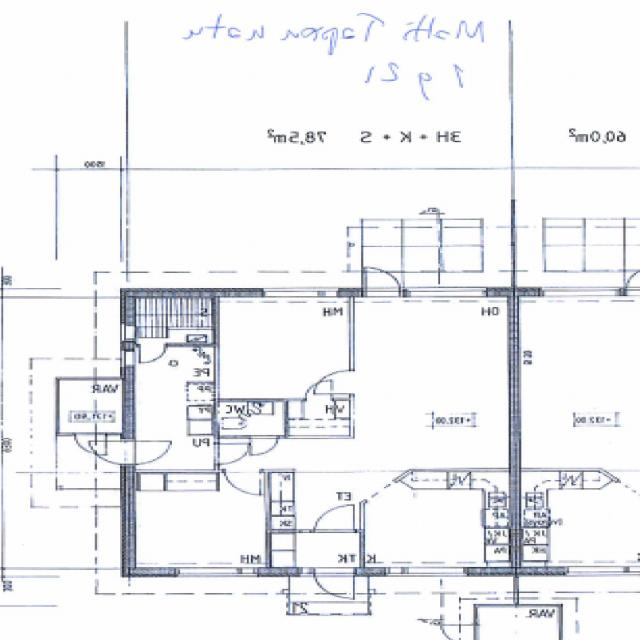door: (314, 567, 354, 603), (363, 262, 401, 296), (314, 504, 354, 534), (86, 441, 135, 464), (122, 441, 170, 464), (224, 468, 262, 496), (314, 370, 355, 394), (74, 432, 107, 458), (214, 443, 252, 463), (439, 624, 479, 640), (139, 342, 167, 364), (250, 434, 278, 456), (304, 379, 332, 401)
